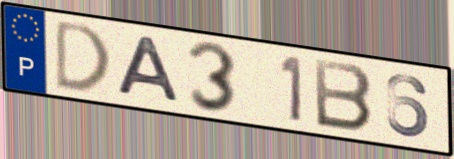1: (278, 54, 304, 126)
3: (186, 40, 241, 115)
6: (384, 73, 432, 140)
A: (114, 34, 183, 106)
B: (311, 56, 375, 135)
D: (53, 17, 113, 94)
